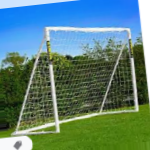goals: (10, 25, 141, 137)
